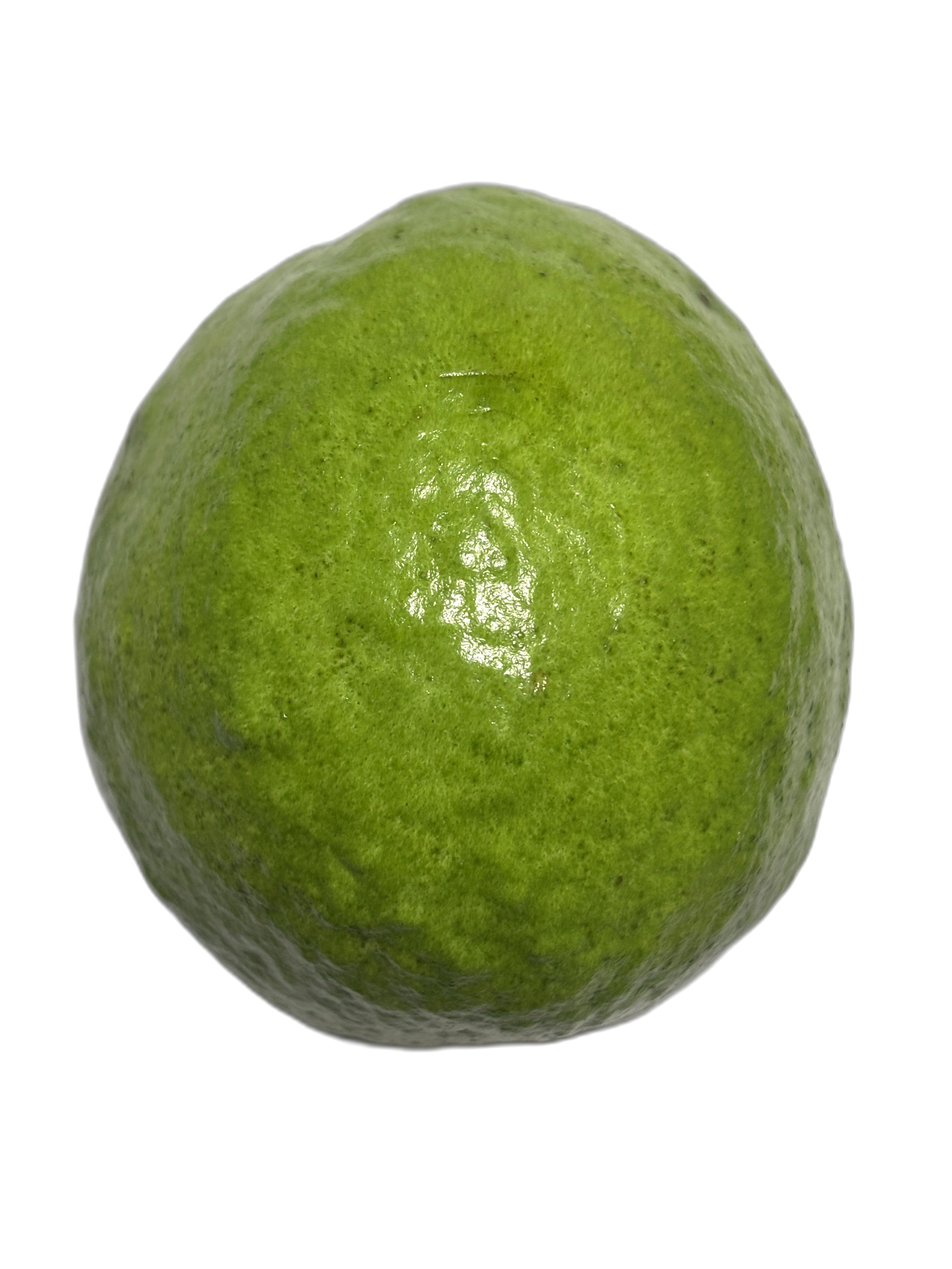guava: (108, 366, 748, 1149)
